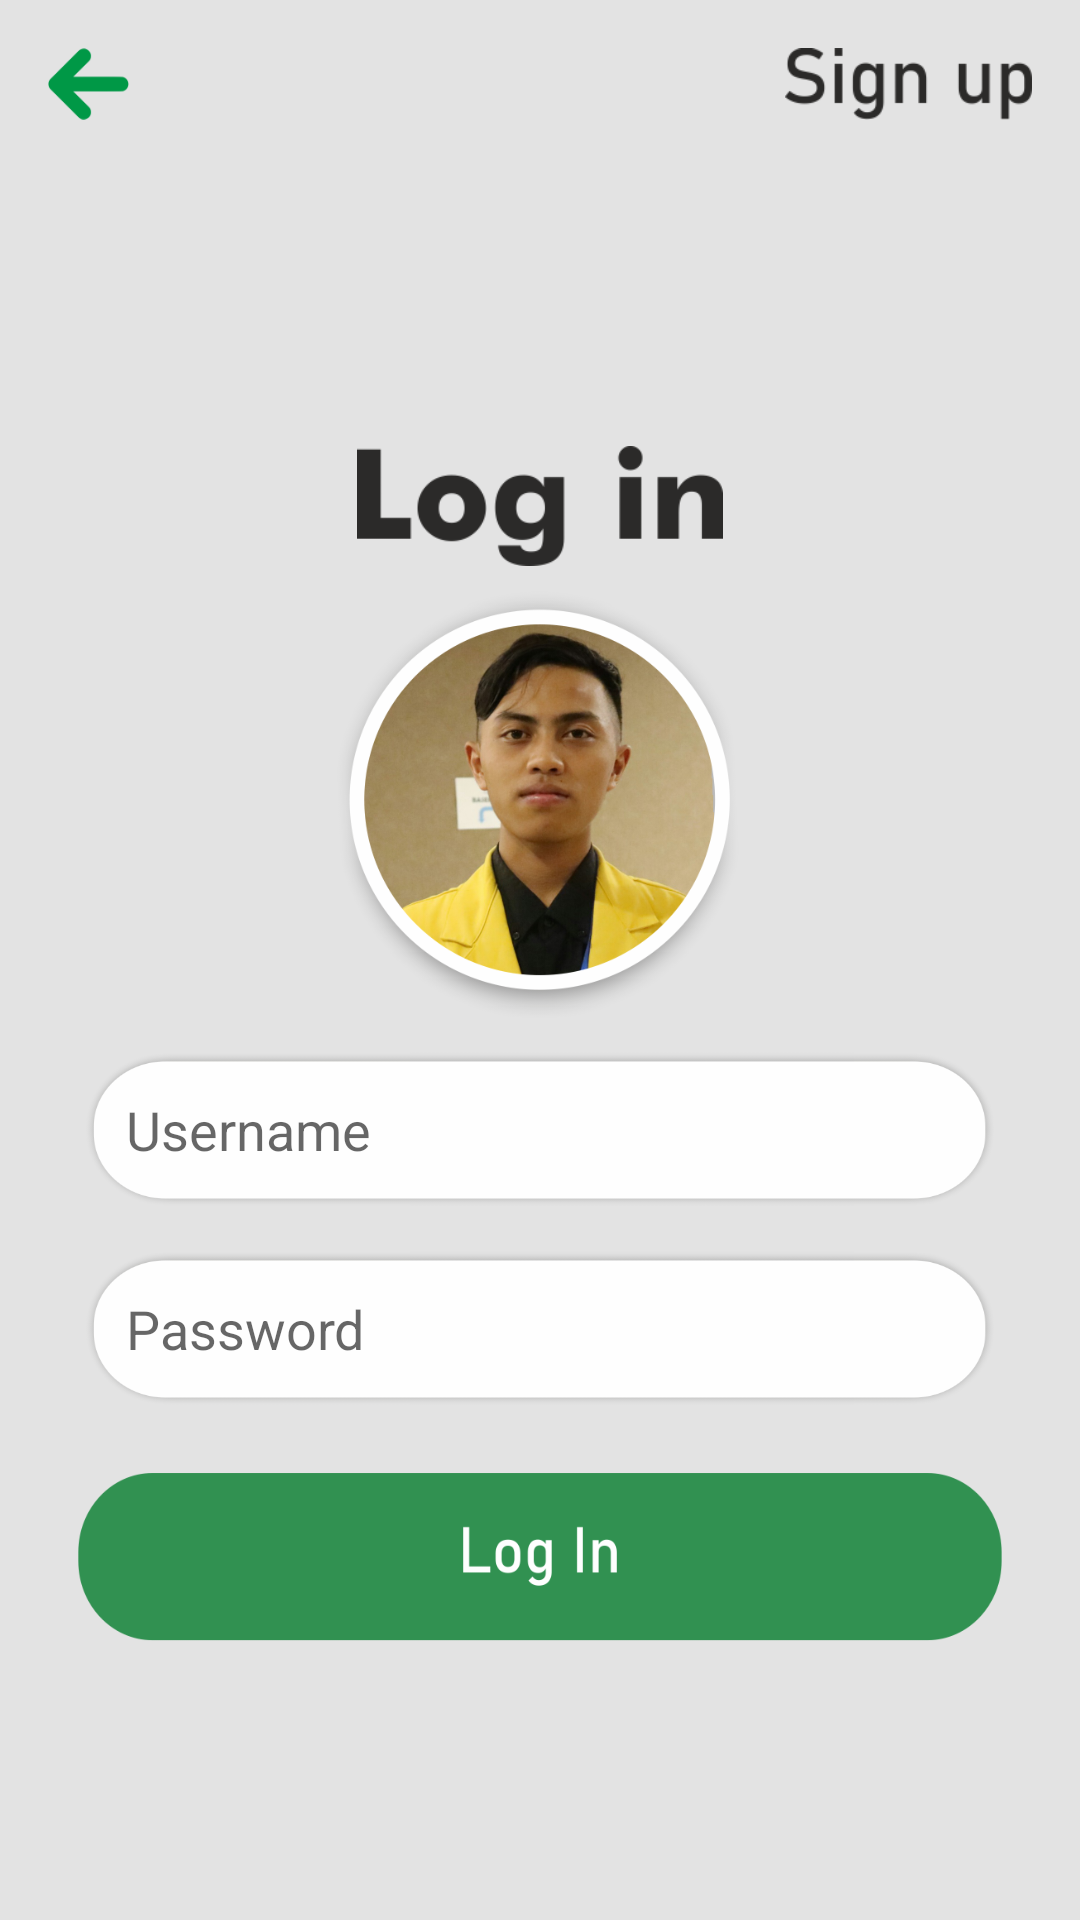

Screen size 1080 x 1920. Icon name, then its center in pixels as point (x, y):
back: point (88, 84)
